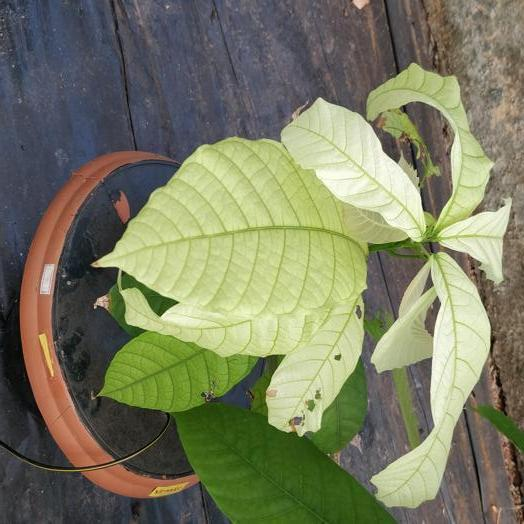Healthy Leaf: (177, 403, 394, 523), (101, 332, 256, 411), (307, 360, 367, 453), (474, 406, 523, 453)
Iron: (97, 138, 365, 319), (372, 252, 490, 506), (367, 63, 492, 231), (281, 98, 425, 239), (124, 290, 348, 356), (266, 298, 361, 435), (371, 263, 436, 371), (437, 198, 510, 283)
